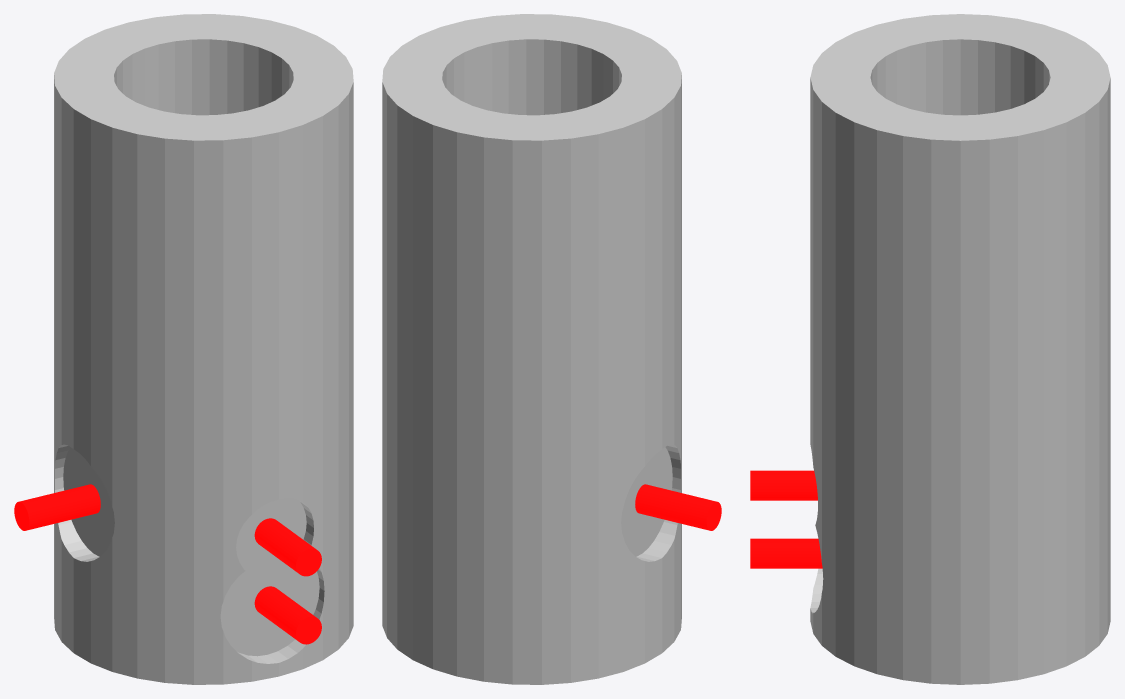
Rendered from LOT129_14996864.glb.
3 renders of one model, left to right at view 1: azimuth 30°, elevation 25°; view 2: azimuth 150°, elevation 25°; view 3: azimuth 270°, elevation 25°, orthographic.
Parts seen in each view (by area): view 1: Cylinder, Cylinder.004, Cylinder.002, Cylinder.006; view 2: Cylinder, Cylinder.004; view 3: Cylinder, Cylinder.002, Cylinder.006.
Boxes of the visible parts, x1,y1,x2,y2 form: Cylinder: (54, 14, 353, 684); Cylinder.004: (14, 484, 100, 530); Cylinder.002: (254, 586, 321, 644); Cylinder.006: (254, 518, 321, 576); Cylinder: (382, 14, 681, 684); Cylinder.004: (635, 484, 721, 530); Cylinder: (810, 14, 1110, 684); Cylinder.002: (750, 538, 822, 568); Cylinder.006: (750, 470, 817, 500).
Size of the model in its own units: 1.2 by 2 by 1.2.
